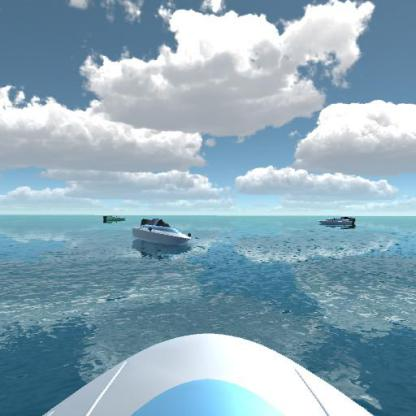usv0: (101, 209, 127, 226)
usv1: (130, 214, 194, 255), (317, 212, 358, 232)
